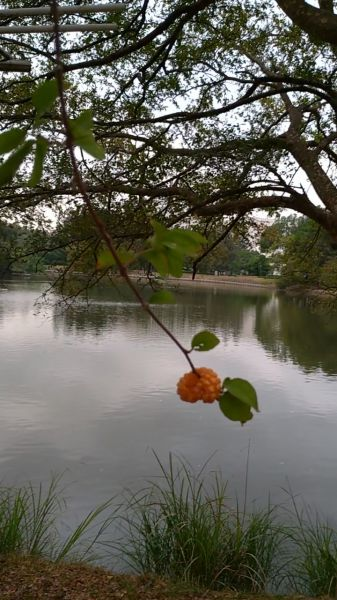eggs: (172, 362, 225, 406)
